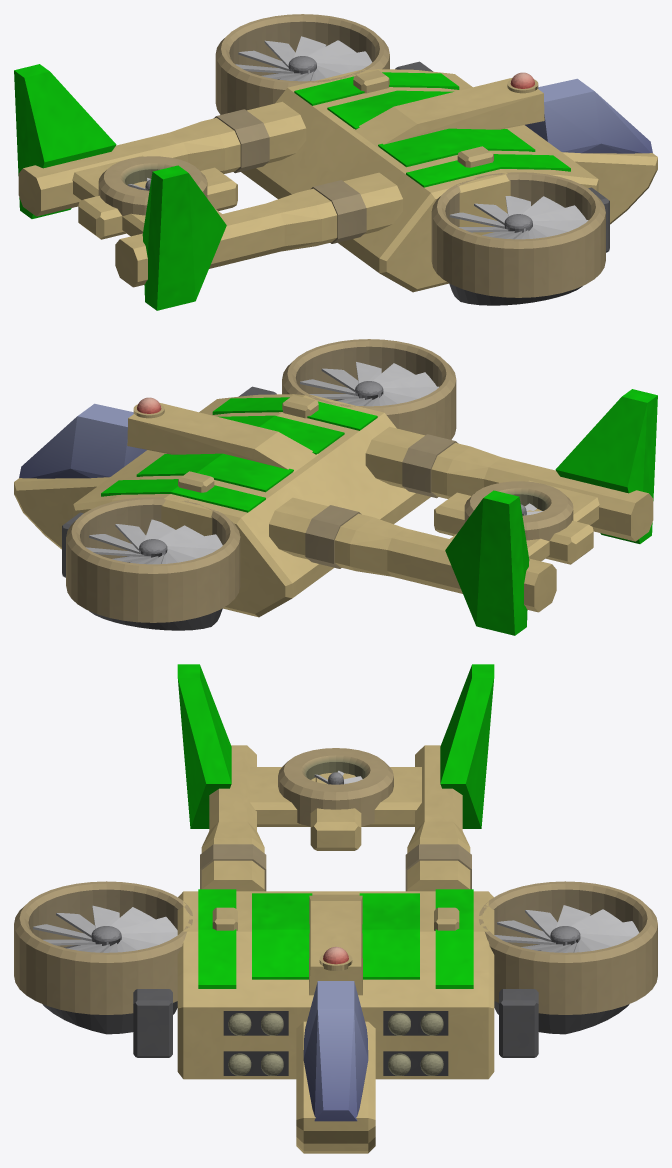
File: orca-bomber.glb
3 views of the same model, one above another, from view 1: azimuth 30°, elevation 25°; view 2: azimuth 150°, elevation 25°; view 3: azimuth 270°, elevation 25° (orthographic). The views are drawn at different scales.
Parts seen in each view (by area): view 1: body, fin_2, fin, spine, canopy, boom_root_2, boom_2, boom_root, boom, keel, top_panel_2, tail_keel (+31 smaller); view 2: body, fin, fin_2, spine, canopy, boom_root, boom, boom_root_2, boom_2, keel, top_panel, tail_keel (+33 smaller); view 3: body, canopy, fin, fin_2, top_panel, top_panel_2, keel, spine, tailplane, top_strip, top_strip_2, boom_root (+26 smaller).
Boxes of the visible parts, x1=… form: body: x1=241, y1=69, x2=598, y2=292; fin_2: x1=142, y1=165, x2=226, y2=310; fin: x1=14, y1=64, x2=116, y2=218; spine: x1=353, y1=77, x2=544, y2=147; canopy: x1=525, y1=78, x2=652, y2=153; boom_root_2: x1=267, y1=172, x2=402, y2=251; boom_2: x1=115, y1=203, x2=284, y2=287; boom_root: x1=170, y1=101, x2=306, y2=173; boom: x1=18, y1=132, x2=187, y2=216; keel: x1=562, y1=152, x2=657, y2=224; top_panel_2: x1=378, y1=128, x2=535, y2=167; tail_keel: x1=78, y1=167, x2=237, y2=239; body: x1=73, y1=394, x2=430, y2=617; fin: x1=445, y1=490, x2=529, y2=635; fin_2: x1=555, y1=389, x2=657, y2=543; spine: x1=127, y1=402, x2=318, y2=472; canopy: x1=19, y1=403, x2=146, y2=478; boom_root: x1=269, y1=497, x2=404, y2=576; boom: x1=387, y1=528, x2=556, y2=612; boom_root_2: x1=365, y1=426, x2=501, y2=498; boom_2: x1=484, y1=457, x2=653, y2=541; keel: x1=14, y1=477, x2=109, y2=549; top_panel: x1=136, y1=453, x2=293, y2=492; tail_keel: x1=434, y1=492, x2=593, y2=564; body: x1=177, y1=891, x2=494, y2=1079; canopy: x1=303, y1=981, x2=368, y2=1121; fin: x1=440, y1=664, x2=494, y2=828; fin_2: x1=177, y1=664, x2=231, y2=828; top_panel: x1=359, y1=893, x2=419, y2=979; top_panel_2: x1=252, y1=893, x2=312, y2=979; keel: x1=296, y1=1021, x2=375, y2=1153; spine: x1=309, y1=894, x2=362, y2=995; tailplane: x1=250, y1=767, x2=421, y2=826; top_strip: x1=435, y1=889, x2=473, y2=988; top_strip_2: x1=198, y1=889, x2=236, y2=988; boom_root: x1=407, y1=821, x2=470, y2=891.
Bounding box in the file's own units: 1.41 × 0.5164 × 1.3.
